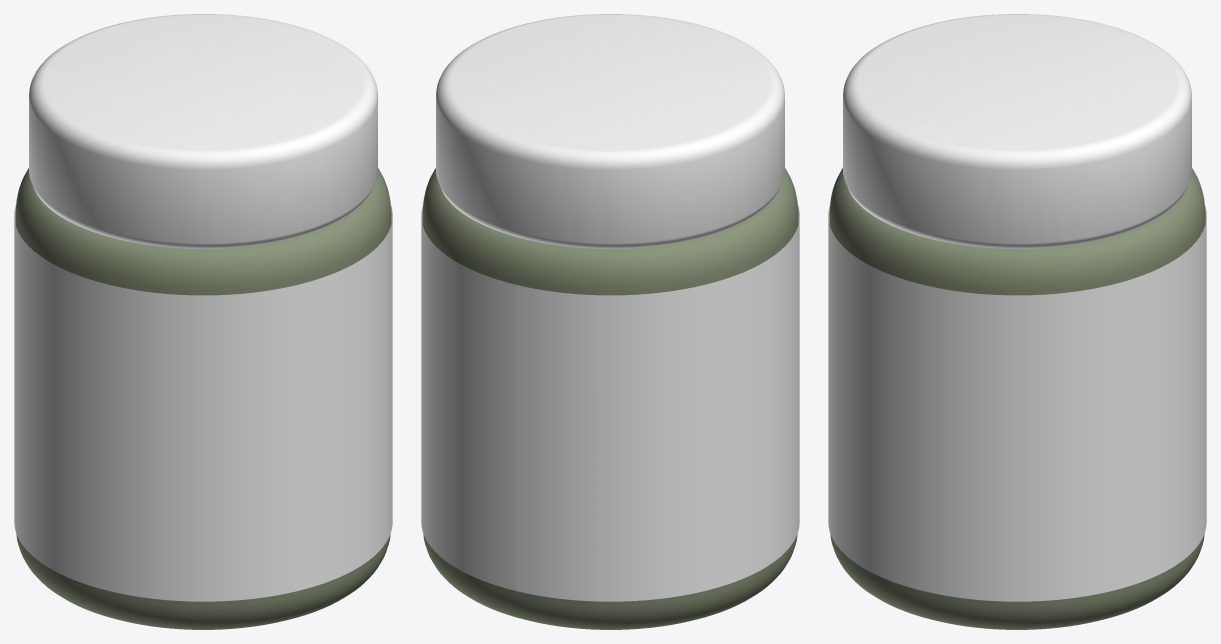
The model's file is jar.glb.
3 renders of one model, left to right at view 1: azimuth 30°, elevation 25°; view 2: azimuth 150°, elevation 25°; view 3: azimuth 270°, elevation 25°, orthographic.
Parts seen in each view (by area): view 1: Label, Cap, Body; view 2: Label, Cap, Body; view 3: Label, Cap, Body.
Part boxes in pixels (bbox=[...]): Label: bbox=[14, 204, 392, 601]; Cap: bbox=[29, 14, 377, 248]; Body: bbox=[15, 168, 391, 629]; Label: bbox=[421, 204, 799, 601]; Cap: bbox=[436, 14, 784, 248]; Body: bbox=[422, 168, 798, 629]; Label: bbox=[828, 204, 1206, 601]; Cap: bbox=[843, 14, 1191, 248]; Body: bbox=[829, 168, 1205, 629].
Size of the model in its own units: 2.02 by 2.83 by 2.02.
